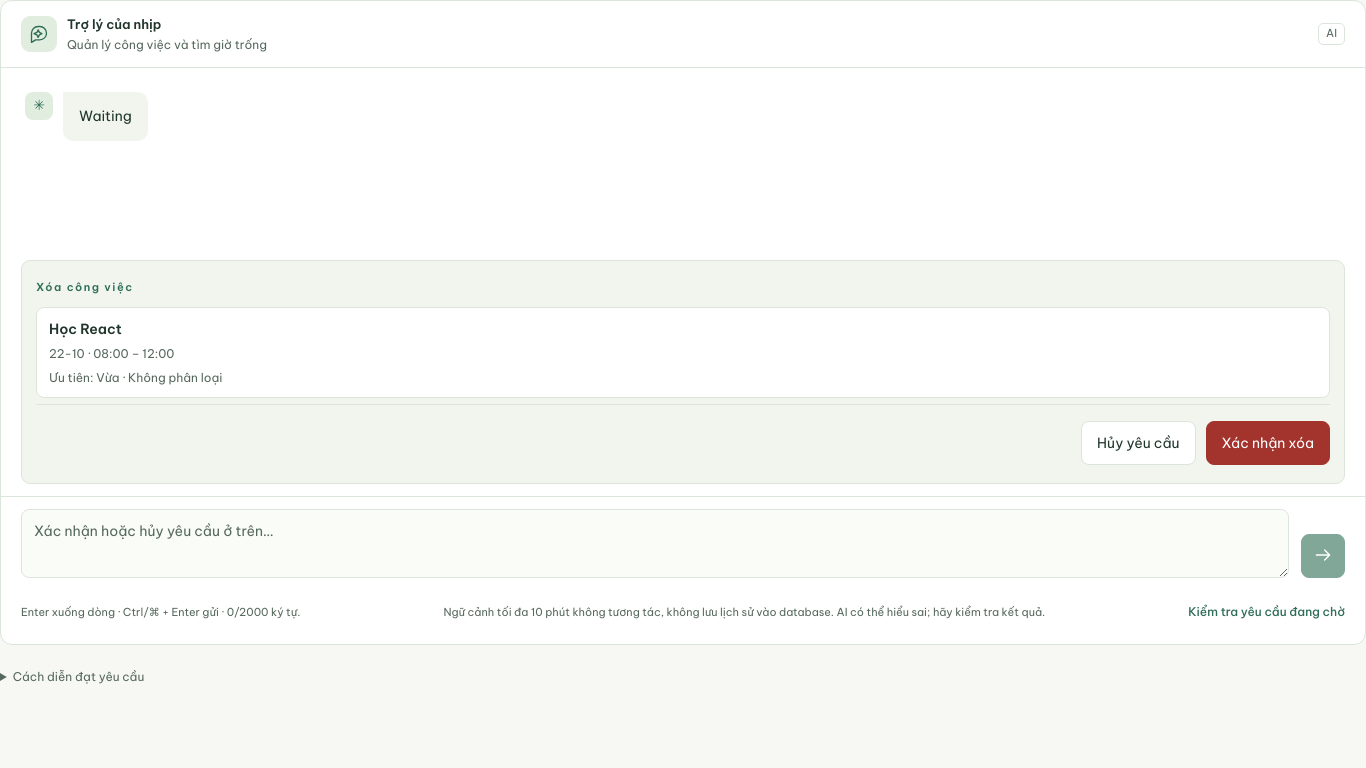
Test: chat recovers server-owned pending and cancel cannot supply action
expect the button "Xác nhận xóa" is shown: met, box left=1206, top=421, right=1330, bottom=465
expect the text box named "Nội dung yêu cầu" is disabled: met, box left=21, top=509, right=1289, bottom=578
Click the button "Hủy yêu cầu" at (1138, 443), box left=1081, top=421, right=1196, bottom=465
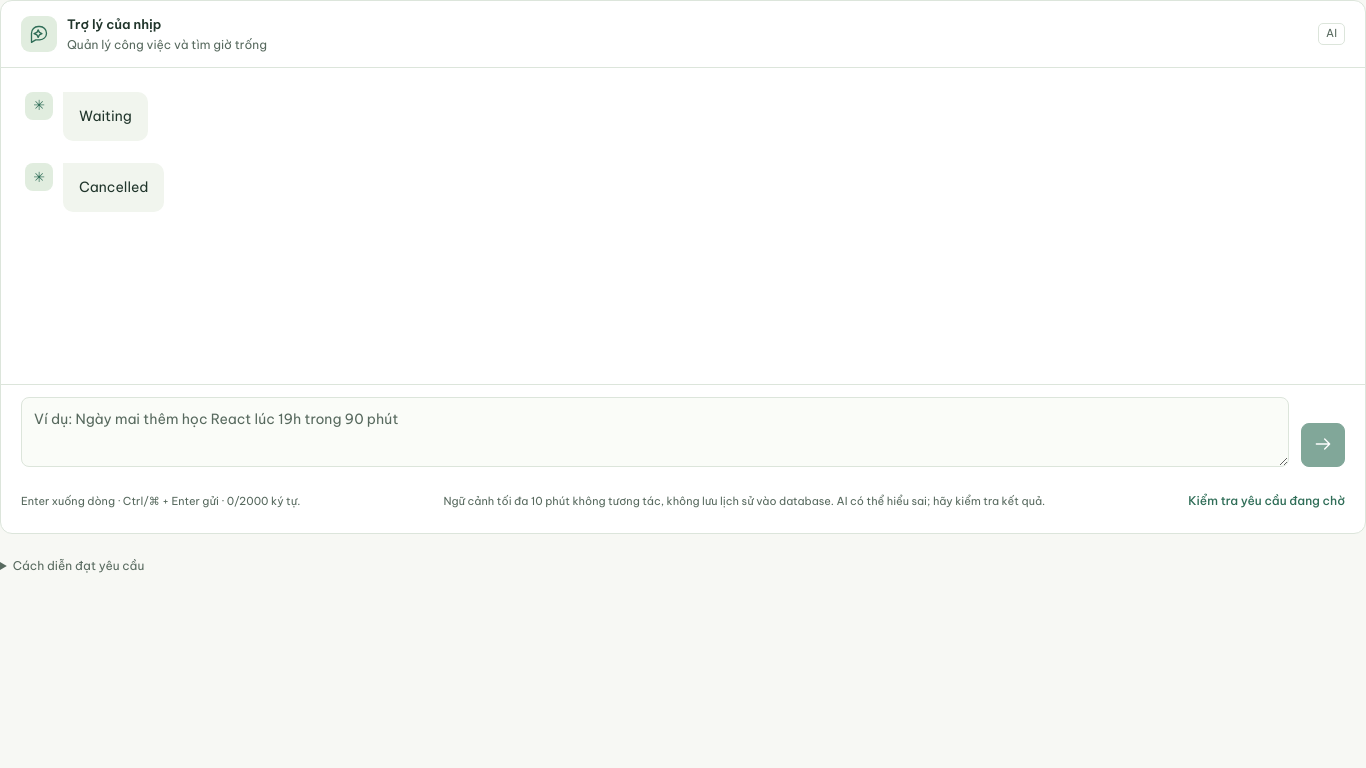
expect the text "Cancelled" is shown: met, box left=79, top=175, right=148, bottom=200
